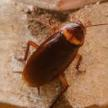cockroach: (22, 22, 86, 88)
